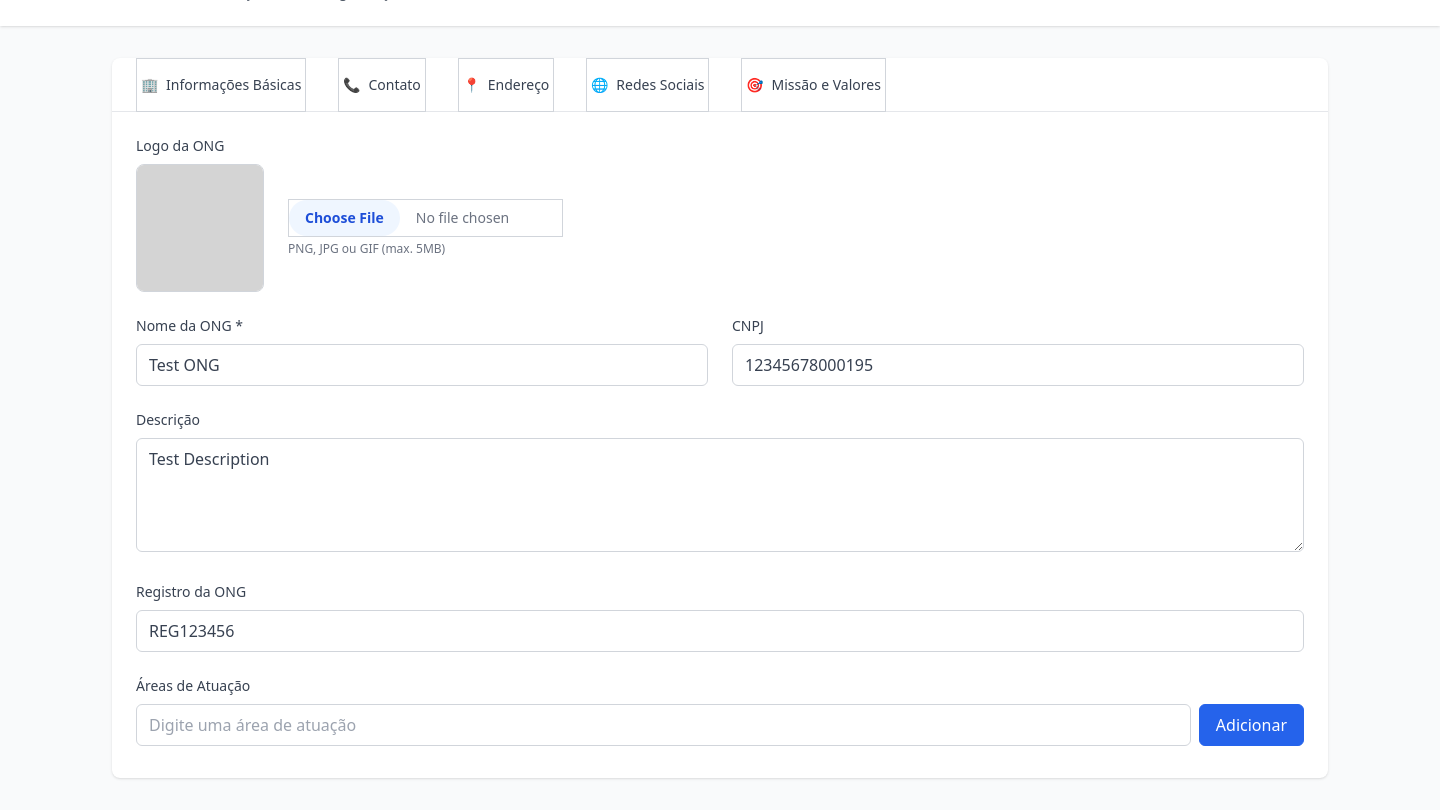
Test: ONGSettingsPage › Areas of Operation › should add new area of operation
(page scrolled)
Type "New Area" into the field with placeholder "Digite uma área de atuação".
click(663, 725); type("New Area")  # box [136, 704, 1191, 746]
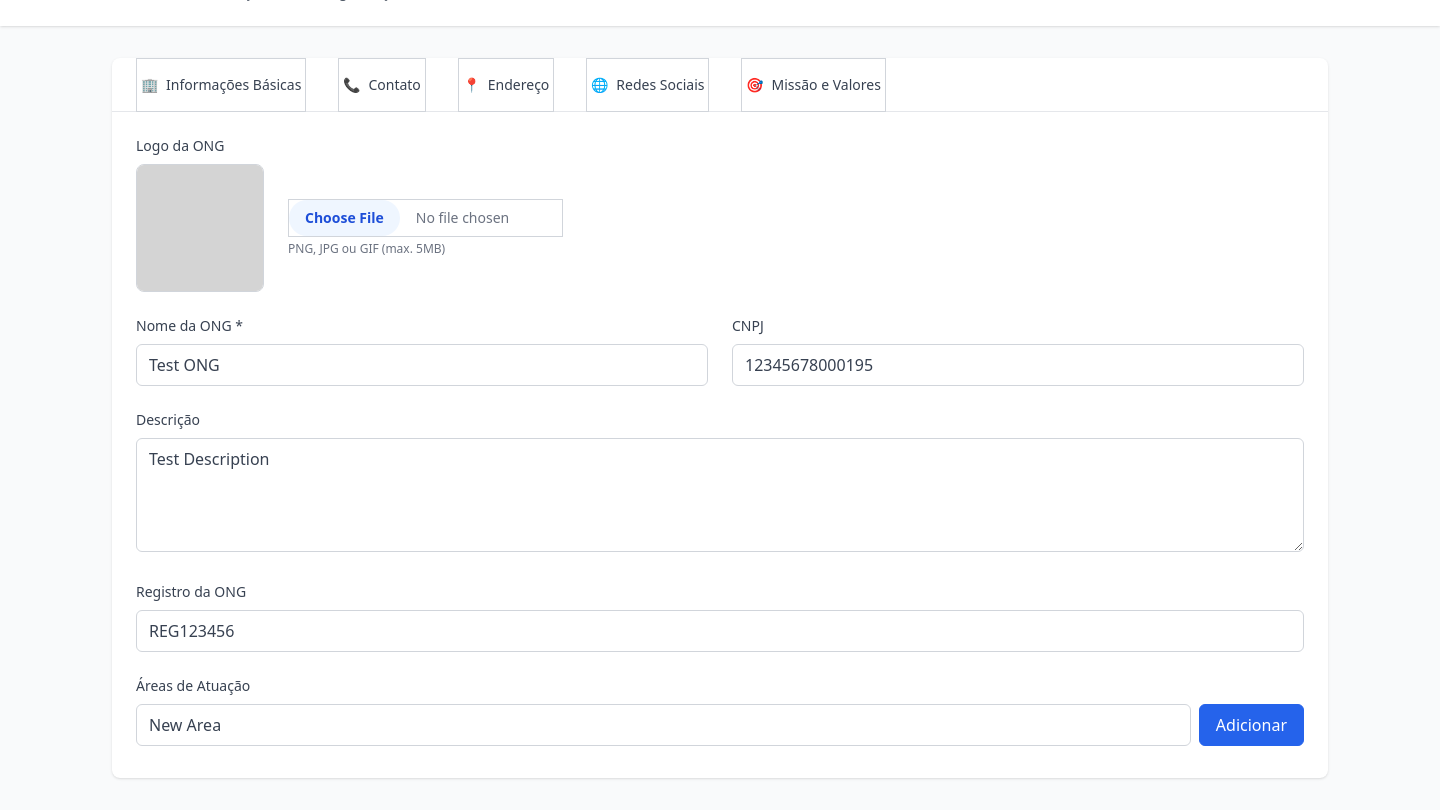
Click the button "Adicionar".
click(1251, 725)  # box [1199, 704, 1304, 746]
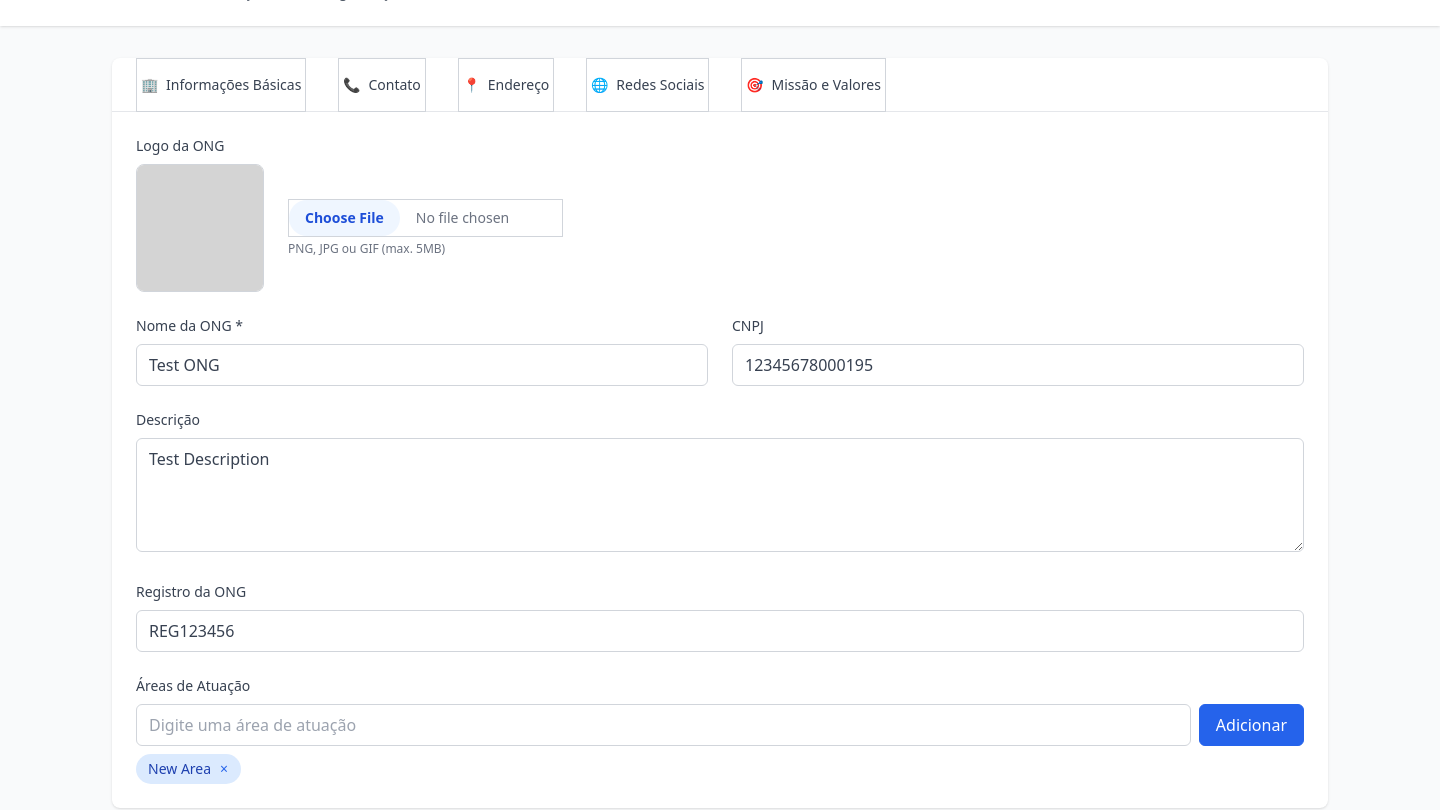
Now the text "New Area" is shown, box [148, 759, 211, 778]
